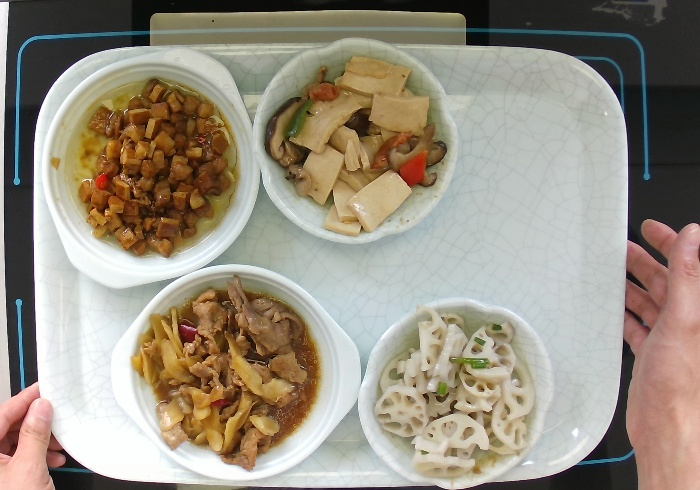JYsf-Ao_Yuan_Wan: (249, 33, 464, 247), (355, 294, 559, 489)
JYsf-Shuang_Er_Pan: (105, 258, 363, 486), (37, 42, 263, 292)
